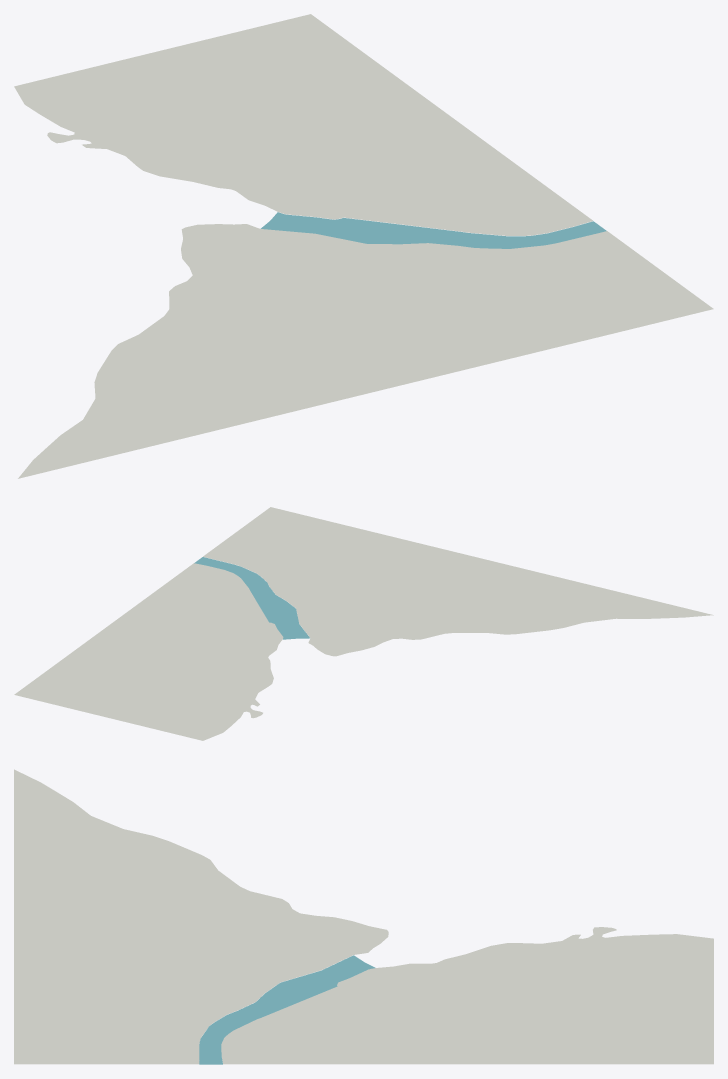
The picture shows the model from 3 angles, top to bottom: view 1: azimuth 30°, elevation 25°; view 2: azimuth 150°, elevation 25°; view 3: azimuth 270°, elevation 25°; orthographic projection. The views are drawn at different scales.
Visible parts, largest first — view 1: city; view 2: city; view 3: city.
Boxes of the visible parts, left/top/right/bottom form: city: left=14, top=14, right=713, bottom=478; city: left=14, top=507, right=713, bottom=740; city: left=14, top=769, right=713, bottom=1064.
Size of the model in its own units: 499 by 0.18 by 500.
